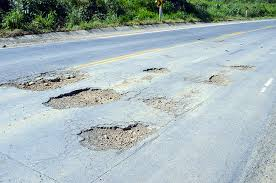pothole: (66, 118, 160, 159), (41, 86, 130, 111), (5, 70, 100, 91), (200, 73, 242, 88), (141, 64, 171, 79)
